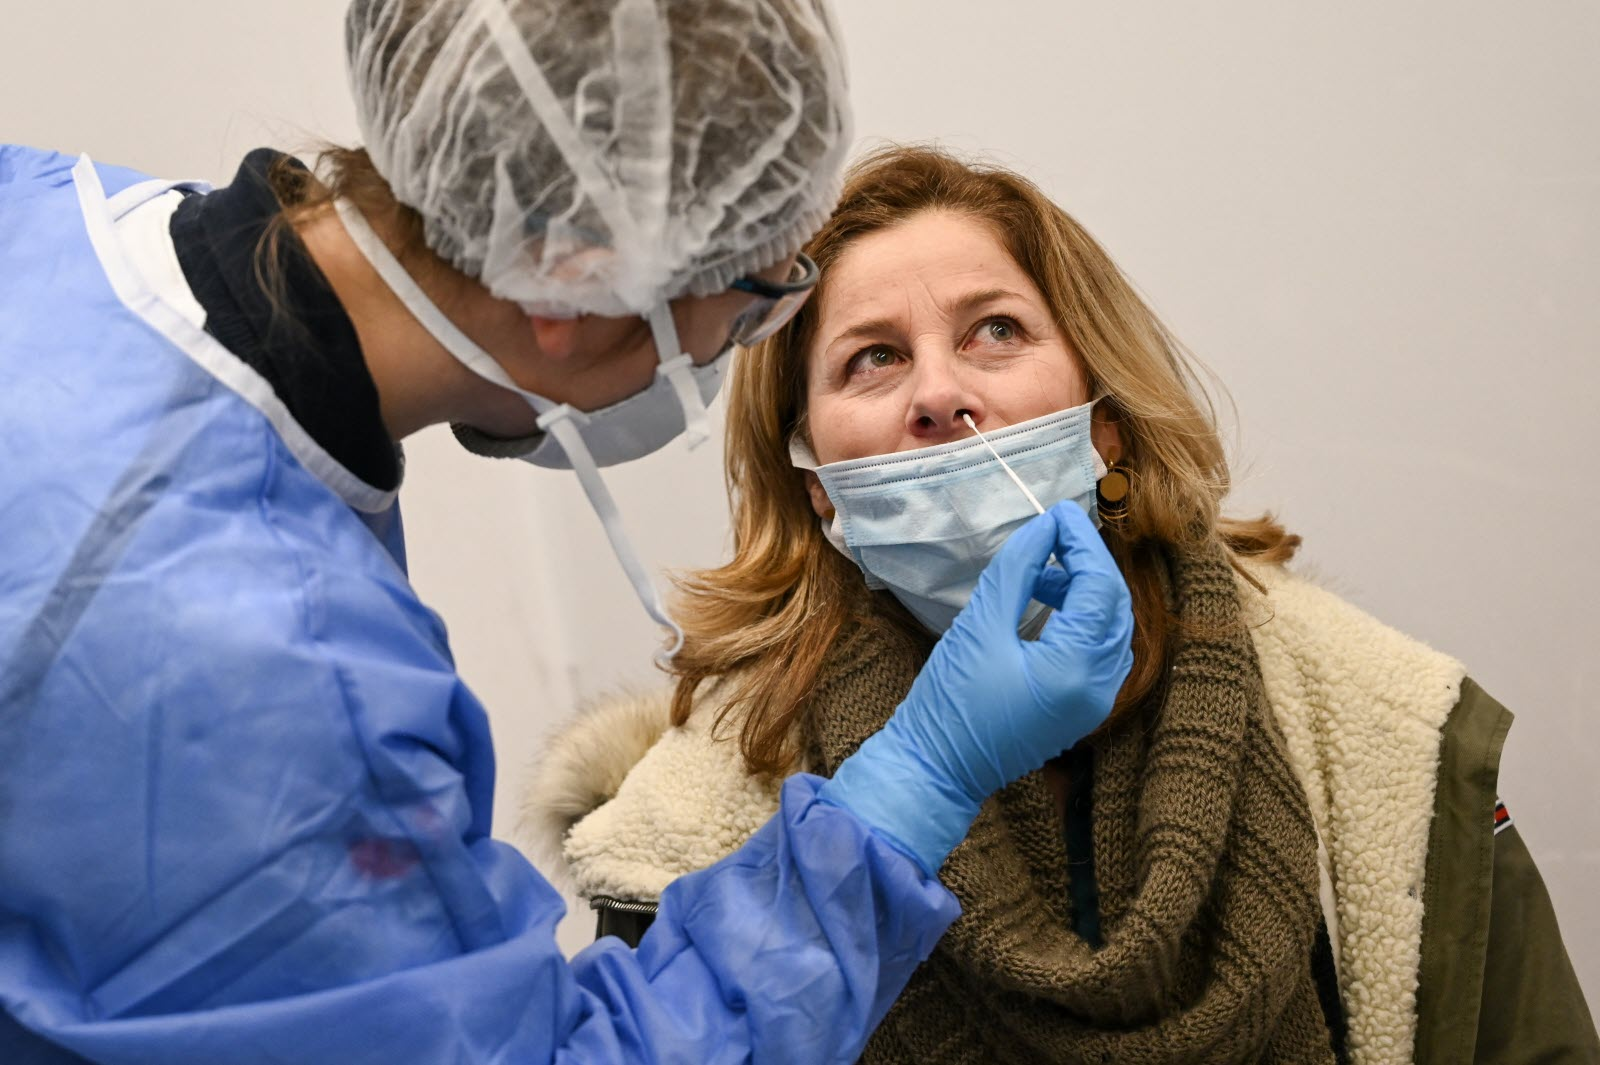with_incorrect_mask: (779, 265, 1090, 612)
